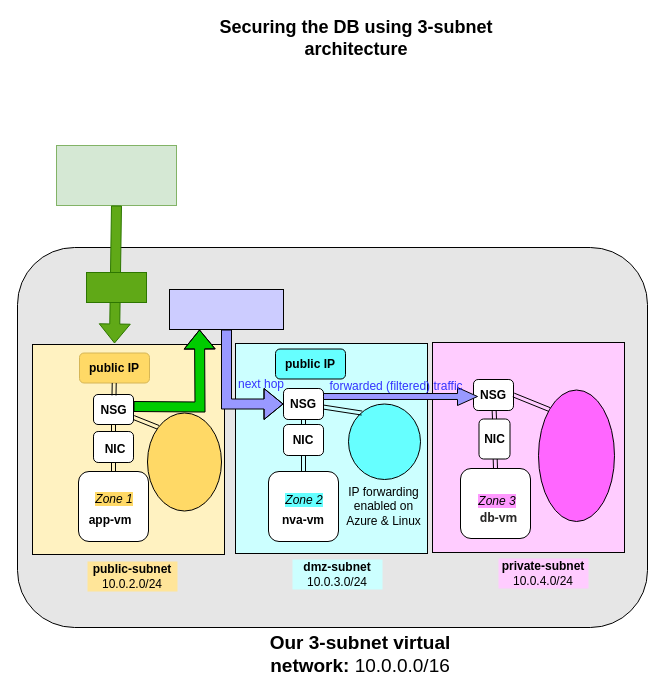
Image size: 665x695. Some labels were removed from this diagram. Here are the shapes that lost their labels. From the top down, the centre of each, then its label:
At (116,175): "Internet users".
At (116,287): "HTTP traffic".
At (226,309): "to-private-subnet route table".
At (184,461): "rules : allow HTTP (80) & SSH (22)".
At (384,441): "rules : allow SSH (22)".
At (576,455): "rules : allow SSH (22) & mongodb & deny all else".
